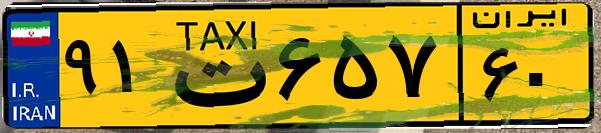0: (525, 38, 570, 115)
1: (110, 28, 158, 98)
5: (330, 28, 385, 110)
6: (270, 28, 330, 110), (475, 38, 525, 113)
7: (385, 28, 445, 110)
9: (57, 26, 110, 100)
ت: (158, 12, 270, 120)
